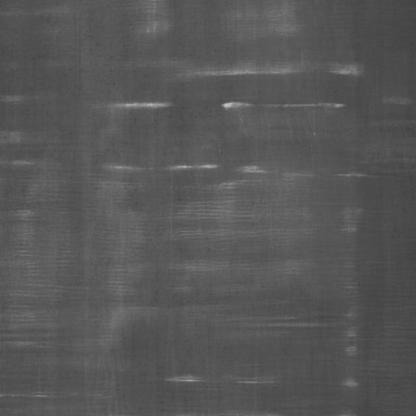waist_folding: (42, 22, 373, 412)
